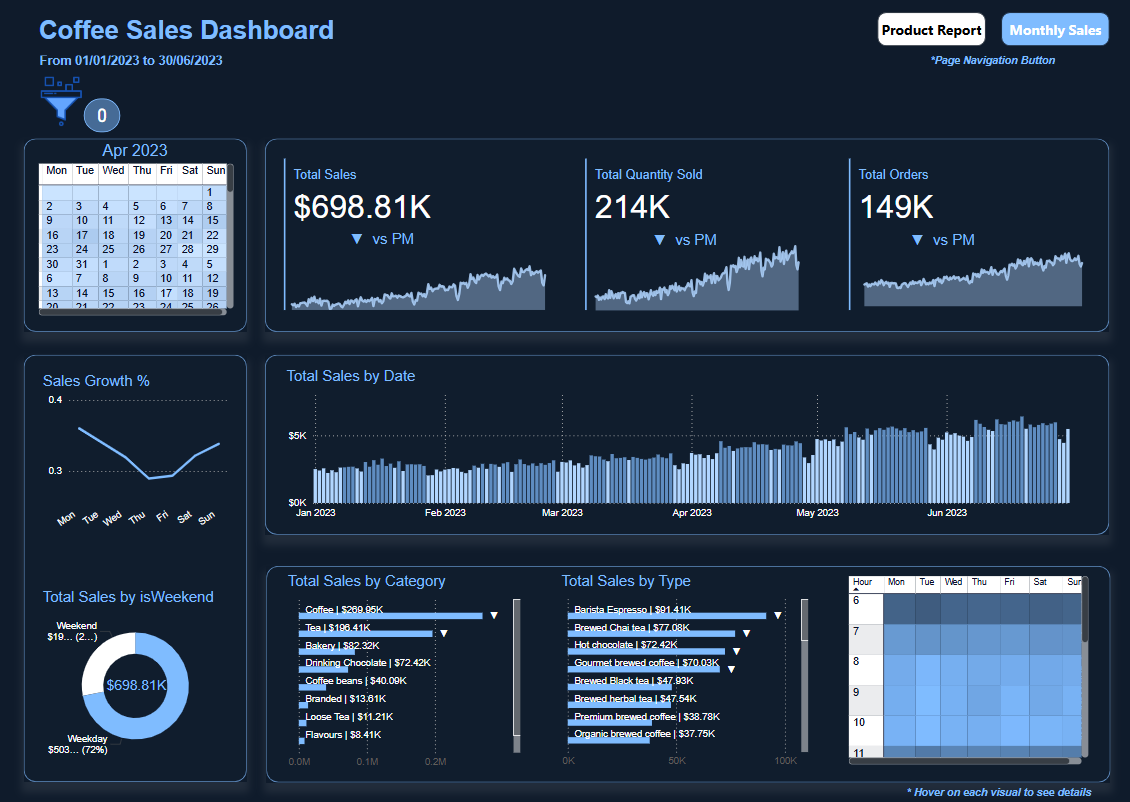

What the dashboard file says about the page in this screenshot:
{"tool":"powerbi","page":{"name":"Monthly Sales","canvas":[1440,1024],"ordinal":3},"visuals":[{"type":"shape","box":[31.2,184.1,313.6,241.8],"z":0},{"type":"shape","box":[31.2,454,313.6,533.5],"z":1000},{"type":"shape","box":[344.5,717.7,1053.7,270.2],"z":2000},{"type":"shape","box":[366.6,454,1029.6,224.6],"z":3000},{"type":"shape","box":[366.6,184.1,1029.6,241.8],"z":4000},{"type":"cardVisual","fields":{"Data":["Key Measures.Total Quantity Sold"]},"box":[741,205.9,290.2,199.7],"z":5000},{"type":"cardVisual","fields":{"Data":["Key Measures.Total Sales"]},"box":[388.5,204.4,255.8,198.1],"z":6000},{"type":"cardVisual","fields":{"Data":["Key Measures.Total Orders"]},"box":[1090.5,204.4,319.8,199.7],"z":7000},{"type":"card","fields":{"Values":["Key Measures.MoM Growth & Quantity Diff"]},"box":[730.1,254.3,273,104.5],"z":8000},{"type":"card","fields":{"Values":["Key Measures.MoM Growth & Sales Diff"]},"box":[382.2,241.8,266.8,127.9],"z":9000},{"type":"card","fields":{"Values":["Key Measures.MoM Growth & Orders Diff"]},"box":[1079.6,252.7,263.6,104.5],"z":10000},{"type":"pivotTable","fields":{"Columns":["Dim_Date.ShortWeekdayName"],"Values":["Min(Dim_Date.DayNo)"],"Rows":["Dim_Date.WeekNumber"]},"box":[55.7,211.1,253.3,199.3],"z":11000},{"type":"donutChart","fields":{"Y":["Key Measures.Total Sales"],"Category":["Dim_Date.isWeekend"]},"box":[43.7,469.6,290.2,223.1],"z":12000},{"type":"card","fields":{"Values":["Key Measures.Total Sales"]},"box":[145.1,546,87.4,96.7],"z":13000},{"type":"clusteredBarChart","title":"Total Sales by Category","fields":{"Category":["Dim_Category.product_category"],"Y":["Key Measures.Placeholder","Key Measures.Total Sales"]},"box":[366.1,726.1,300.1,252.5],"z":14000},{"type":"clusteredBarChart","title":"Total Sales by Type","fields":{"Category":["Dim_Type.product_type"],"Y":["Key Measures.Placeholder","Key Measures.Total Sales"]},"box":[708,726.1,317.5,251.6],"z":15000},{"type":"columnChart","fields":{"Category":["Dim_Date.Date"],"Y":["Key Measures.Total Sales"]},"box":[364.8,469.5,1011.5,197.6],"z":16000},{"type":"card","fields":{"Values":["Key Measures.Date Range"]},"box":[43.7,68.6,265.2,32.8],"z":17000},{"type":"shape","box":[1261.4,27,135.1,42.2],"z":18000},{"type":"shape","box":[1107.8,27,135.1,42.2],"z":19000},{"type":"textbox","box":[56.2,26.5,433.7,48.4],"z":20000},{"type":"pivotTable","fields":{"Rows":["Dim_Time.Hour"],"Columns":["Dim_Date.ShortWeekdayName"],"Values":["Key Measures.Total Sales"]},"box":[42.1,706.7,291.7,269.9],"z":22000},{"type":"lineChart","fields":{"Y":["Key Measures.Total Quantity Sold"],"Category":["Dim_Date.Date"]},"box":[741,302.6,338.5,101.4],"z":23000},{"type":"lineChart","fields":{"Category":["Dim_Date.Date"],"Y":["Key Measures.Total Sales"]},"box":[388.5,310.4,352.6,93.6],"z":24000},{"type":"lineChart","fields":{"Y":["Key Measures.Total Orders"],"Category":["Dim_Date.Date"]},"box":[1090.5,305.8,308.9,93.6],"z":25000},{"type":"textbox","box":[1138.2,987.9,260.1,35.5],"z":26000},{"type":"textbox","box":[1168.6,74.3,185.8,27],"z":27000},{"type":"actionButton","box":[116.5,133.4,45.6,42.2],"z":28000},{"type":"card","fields":{"Values":["Min(Dim_Date.YearMonth)"]},"box":[126.7,184.1,109.8,32.1],"z":29000},{"type":"slicer","fields":{"Values":["Dim_Date.YearMonth"]},"box":[467.5,22.7,176.9,61.7],"z":29500},{"type":"advancedSlicerVisual","fields":{"Values":["Slicer Table.Slicer"]},"box":[173.9,103,1224.3,69.2],"z":30000},{"type":"image","title":"Slicer_Showbox","box":[42.2,101.3,92.9,72.6],"z":32000},{"type":"card","fields":{"Values":["Key Measures._xxx value"]},"box":[116.2,134.5,46.9,40.8],"z":34000},{"type":"clusteredBarChart","title":"Total Sales by Store Location","fields":{"Category":["Dim_Store.store_location"],"Y":["Key Measures.Placeholder","Key Measures.Total Sales"]},"box":[1026.5,725.4,413.4,252.7],"z":34001}]}

Visuals, with their boxes in screenshot pixels (x1, y1, x2, y2), scaled from the page's 1440x1024 canvas onto the 1130x802 screenshot:
shape: box(24, 144, 271, 334)
shape: box(24, 356, 271, 773)
shape: box(270, 562, 1097, 774)
shape: box(288, 356, 1096, 531)
shape: box(288, 144, 1096, 334)
cardVisual - Key Measures.Total Quantity Sold: box(581, 161, 809, 318)
cardVisual - Key Measures.Total Sales: box(305, 160, 506, 315)
cardVisual - Key Measures.Total Orders: box(856, 160, 1107, 316)
card - Key Measures.MoM Growth & Quantity Diff: box(573, 199, 787, 281)
card - Key Measures.MoM Growth & Sales Diff: box(300, 189, 509, 290)
card - Key Measures.MoM Growth & Orders Diff: box(847, 198, 1054, 280)
pivotTable - Dim_Date.ShortWeekdayName x Min(Dim_Date.DayNo): box(44, 165, 242, 321)
donutChart - Key Measures.Total Sales x Dim_Date.isWeekend: box(34, 368, 262, 543)
card - Key Measures.Total Sales: box(114, 428, 182, 503)
"Total Sales by Category" clusteredBarChart: box(287, 569, 523, 766)
"Total Sales by Type" clusteredBarChart: box(556, 569, 805, 766)
columnChart - Dim_Date.Date x Key Measures.Total Sales: box(286, 368, 1080, 522)
card - Key Measures.Date Range: box(34, 54, 242, 79)
shape: box(990, 21, 1096, 54)
shape: box(869, 21, 975, 54)
textbox: box(44, 21, 384, 59)
pivotTable - Dim_Time.Hour x Dim_Date.ShortWeekdayName: box(33, 553, 262, 765)
lineChart - Key Measures.Total Quantity Sold x Dim_Date.Date: box(581, 237, 847, 316)
lineChart - Dim_Date.Date x Key Measures.Total Sales: box(305, 243, 582, 316)
lineChart - Key Measures.Total Orders x Dim_Date.Date: box(856, 240, 1098, 313)
textbox: box(893, 774, 1097, 801)
textbox: box(917, 58, 1063, 79)
actionButton: box(91, 104, 127, 138)
card - Min(Dim_Date.YearMonth): box(99, 144, 186, 169)
slicer - Dim_Date.YearMonth: box(367, 18, 506, 66)
advancedSlicerVisual - Slicer Table.Slicer: box(136, 81, 1097, 135)
"Slicer_Showbox" image: box(33, 79, 106, 136)
card - Key Measures._xxx value: box(91, 105, 128, 137)
"Total Sales by Store Location" clusteredBarChart: box(806, 568, 1129, 766)
